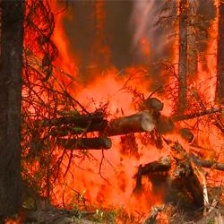fire: (24, 1, 224, 213)
